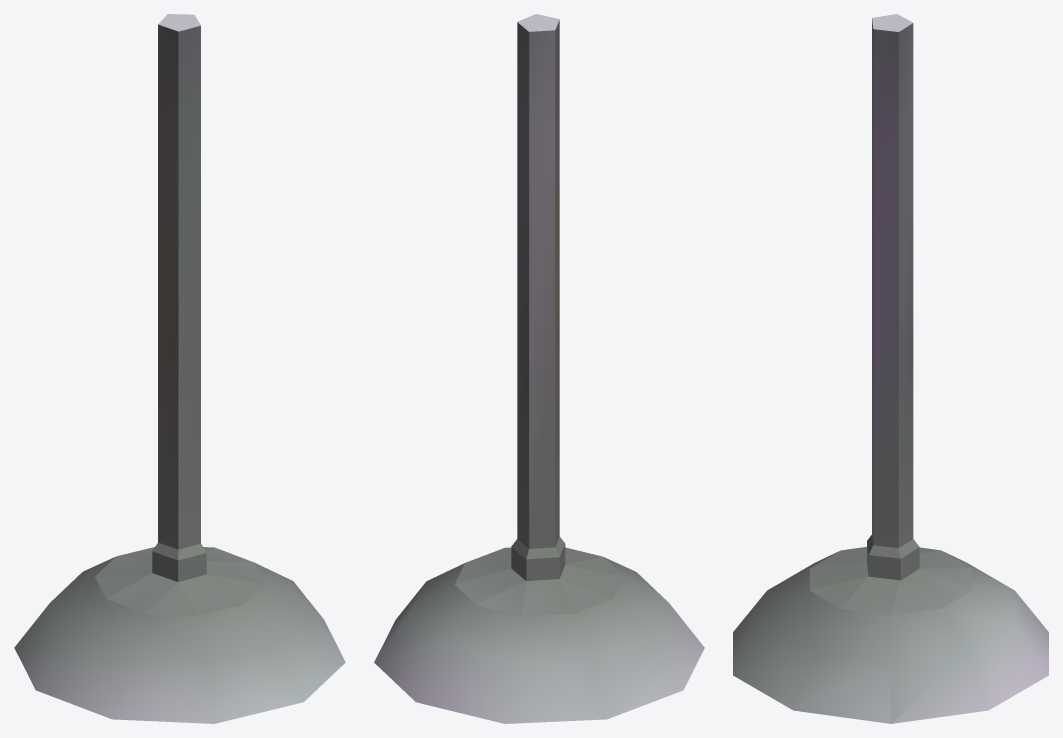
The model's file is round_hanging_lamp.FBX.
3 renders of one model, left to right at view 1: azimuth 30°, elevation 25°; view 2: azimuth 150°, elevation 25°; view 3: azimuth 270°, elevation 25°, orthographic.
Visible parts, largest first — view 1: round hanging lamp; view 2: round hanging lamp; view 3: round hanging lamp.
Boxes of the visible parts, <box> form: round hanging lamp: <box>14,14,345,723</box>; round hanging lamp: <box>374,14,704,723</box>; round hanging lamp: <box>733,14,1048,723</box>.
Bounding box in the file's own units: 0.4 × 0.8384 × 0.3805.
